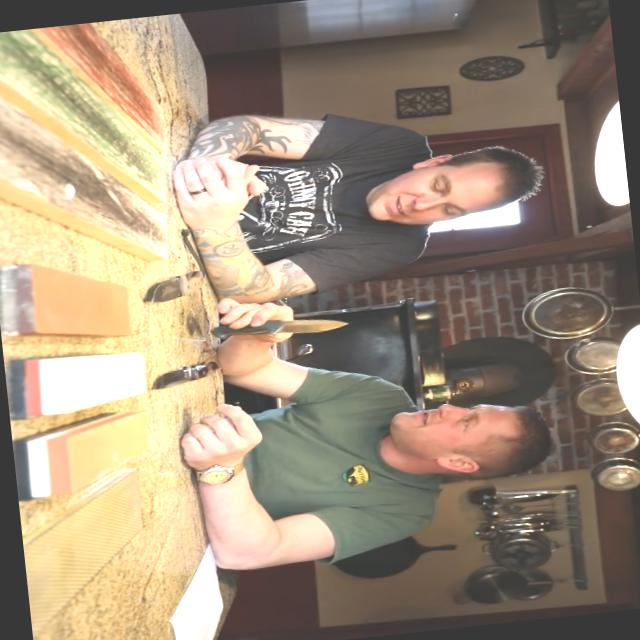knife: (218, 290, 362, 347)
